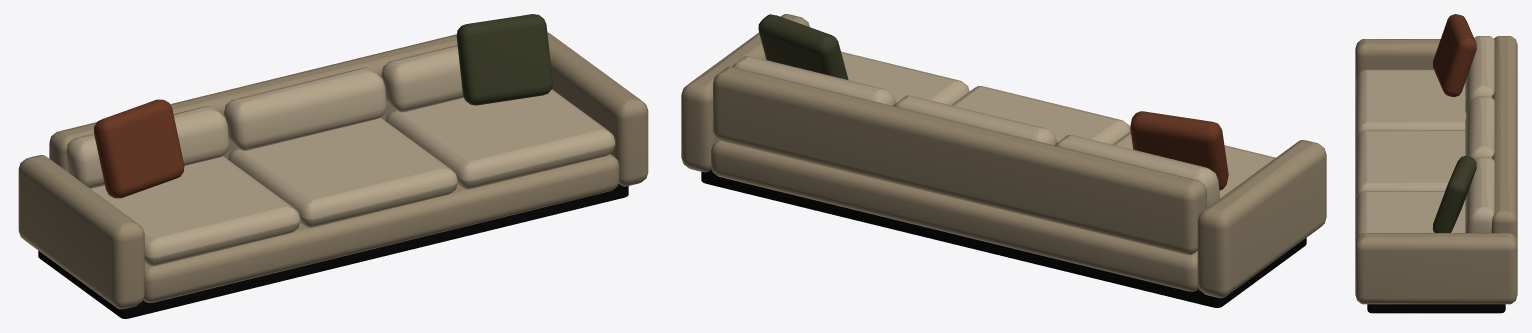
File: modular-sofa-lod2.glb
3 renders of one model, left to right at view 1: azimuth 30°, elevation 25°; view 2: azimuth 150°, elevation 25°; view 3: azimuth 270°, elevation 25°, orthographic. The views are drawn at different scales.
Visible parts, largest first — view 1: Oatmeal performance fabric, Oatmeal upholstered base, Olive accent pillow, Terracotta accent pillow, Shadow plinth; view 2: Oatmeal upholstered base, Oatmeal performance fabric, Shadow plinth, Terracotta accent pillow, Olive accent pillow; view 3: Oatmeal performance fabric, Oatmeal upholstered base, Terracotta accent pillow, Olive accent pillow, Shadow plinth.
Boxes of the visible parts, x1,y1,x2,y2 form: Oatmeal performance fabric: (66, 45, 615, 266); Oatmeal upholstered base: (18, 32, 648, 309); Olive accent pillow: (456, 14, 552, 105); Terracotta accent pillow: (94, 99, 184, 198); Shadow plinth: (38, 184, 628, 318); Oatmeal upholstered base: (681, 14, 1326, 298); Oatmeal performance fabric: (732, 51, 1275, 207); Shadow plinth: (701, 169, 1306, 307); Terracotta accent pillow: (1130, 111, 1228, 190); Olive accent pillow: (758, 14, 848, 79); Oatmeal performance fabric: (1356, 36, 1494, 238); Oatmeal upholstered base: (1355, 36, 1517, 304); Terracotta accent pillow: (1432, 14, 1476, 97); Olive accent pillow: (1432, 155, 1476, 232); Shadow plinth: (1367, 304, 1505, 313).
Bounding box in the file's own units: 3.05 × 0.8177 × 1.02.
